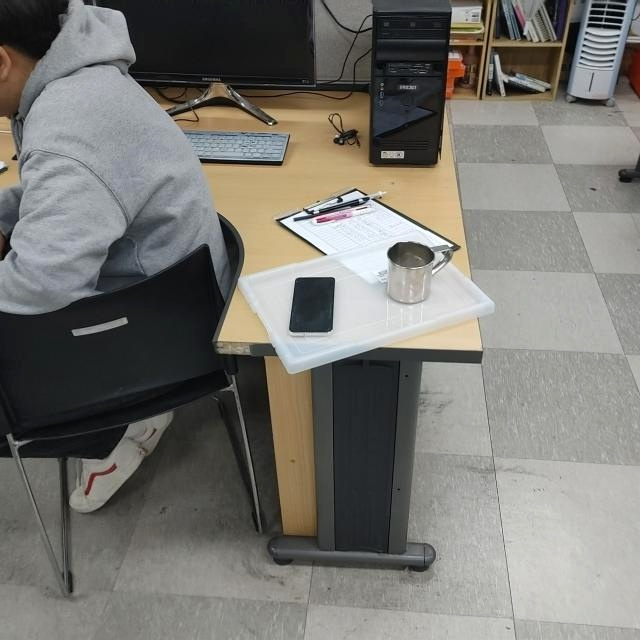cup: (386, 238, 457, 306)
phone: (286, 277, 338, 338)
